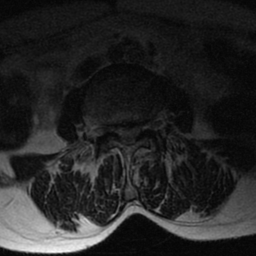CCS_stenosis: (123, 116, 132, 149)
LFS_stenosis: (141, 117, 148, 138)
LLS_stenosis: (133, 117, 140, 144)
RFS_stenosis: (109, 118, 118, 142)
RLS_stenosis: (116, 117, 123, 142)
